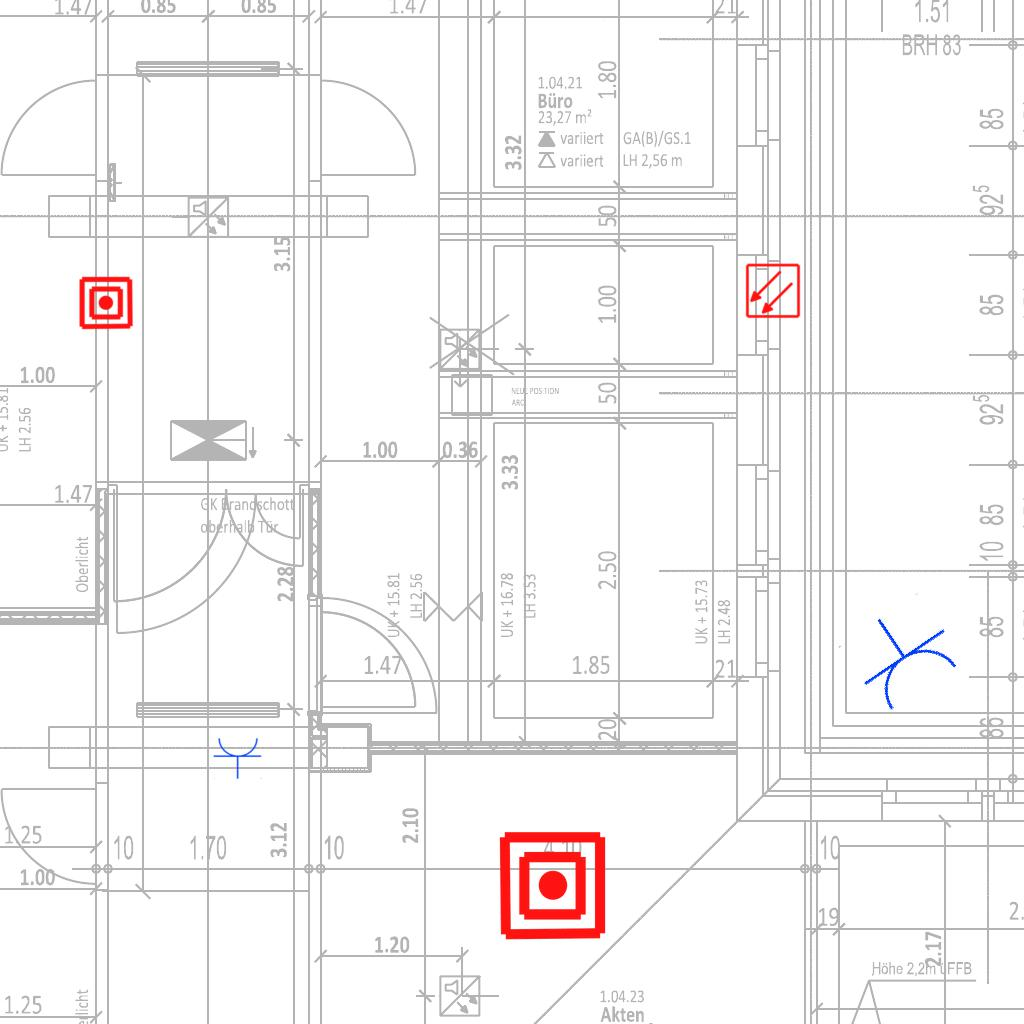NAM-Nichtautomatischer_Melder: (496, 829, 609, 942), (78, 275, 134, 331)
RMO_Rauchmelder_optischer: (745, 263, 801, 319)
Schukosteckdose_einfach: (836, 591, 968, 720), (213, 736, 263, 779)
